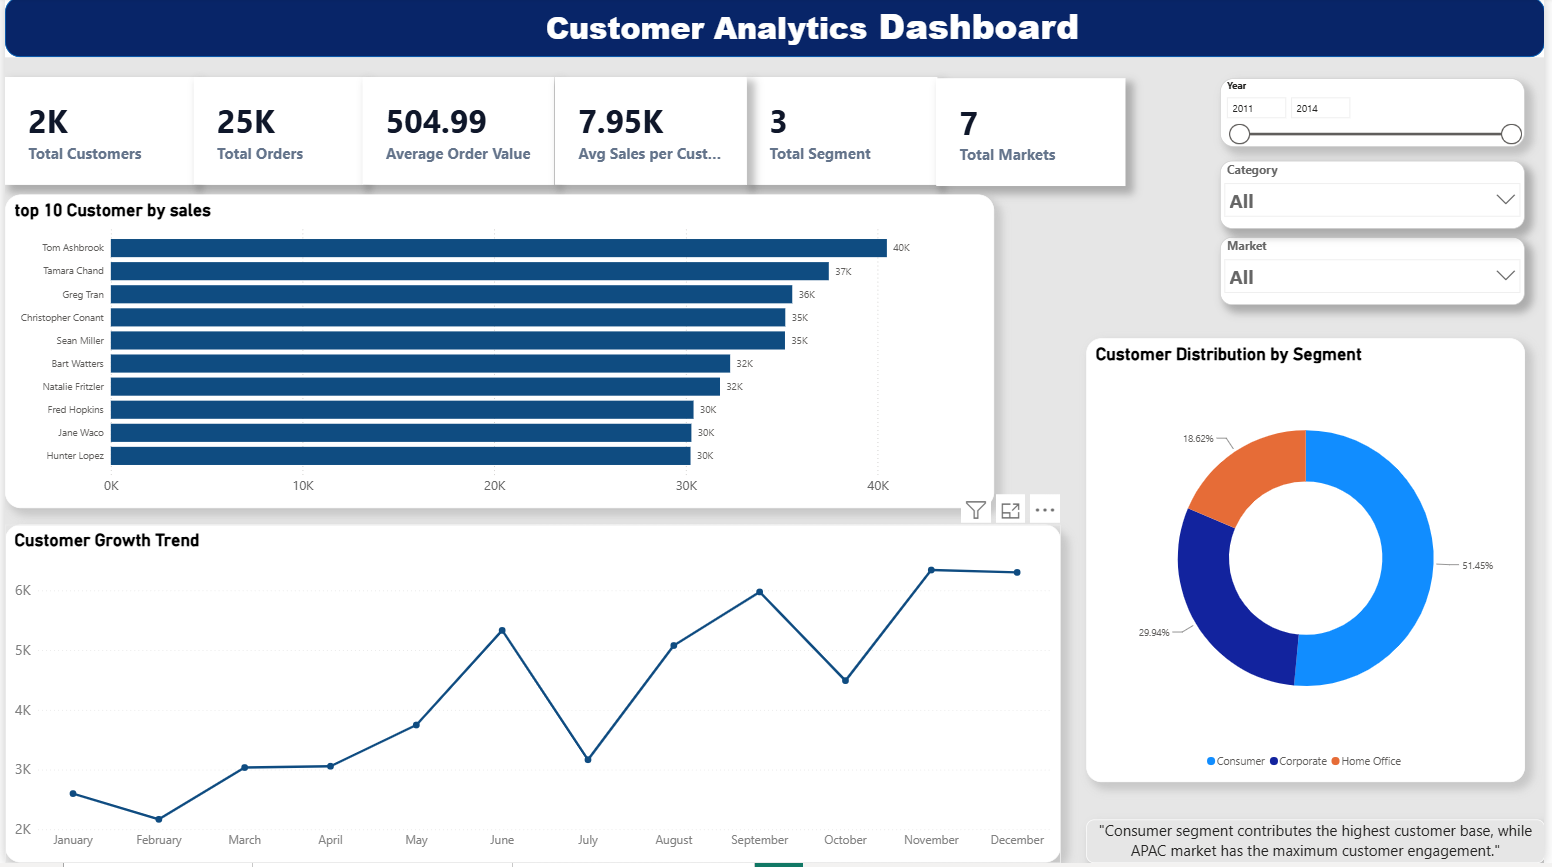

The dashboard page shown, as its layout file describes it:
{"tool":"powerbi","page":{"name":"Customer Analytics Dashboard","canvas":[1920,1080],"ordinal":1},"visuals":[{"type":"cardVisual","title":"Total Sales","fields":{"Data":["Measures (2).Total Customers"]},"box":[0,99.4,236,134.3],"z":0},{"type":"cardVisual","title":"Total Sales","fields":{"Data":["Measures (2).Total Segment"]},"box":[924.4,99.4,238,134.3],"z":1000},{"type":"cardVisual","title":"Total Sales","fields":{"Data":["Measures (2).Total Markets"]},"box":[1161.6,101.2,236,134.3],"z":2000},{"type":"cardVisual","title":"Total Sales","fields":{"Data":["Measures (2).Total Orders"]},"box":[235.5,99.4,211,134.3],"z":3000},{"type":"cardVisual","title":"Total Sales","fields":{"Data":["Measures (2).Average Order Value"]},"box":[446.5,99.4,239,134.3],"z":4000},{"type":"cardVisual","fields":{"Data":["Measures (2).Avg Sales per Customer"]},"box":[685.5,99.4,239,134.3],"z":5000},{"type":"slicer","fields":{"Values":["DateTable.Year"]},"box":[1515.7,101.2,380.2,85.5],"z":6000},{"type":"slicer","fields":{"Values":["Global_Superstore.Market"]},"box":[1515.7,300,380.2,85],"z":7000},{"type":"slicer","fields":{"Values":["Global_Superstore.Category"]},"box":[1515.7,204.1,380.2,85],"z":8000},{"type":"textbox","box":[1348.3,1025.6,572.1,54.1],"z":14000},{"type":"shape","box":[0,0,1920.4,75],"z":15000},{"type":"textbox","box":[198.8,0,1540.1,75],"z":16000},{"type":"clusteredBarChart","title":"top 10 Customer by sales","fields":{"Category":["Global_Superstore.Customer Name"],"Y":["Measures (2).Total Sales"]},"box":[0,245.9,1233.7,391.3],"z":16001},{"type":"donutChart","title":"Customer Distribution by Segment","fields":{"Category":["Global_Superstore.Segment"],"Y":["Count(Global_Superstore.Customer ID)"]},"box":[1349.1,425.5,547.3,553.8],"z":16002},{"type":"lineChart","title":"Customer Growth Trend","fields":{"Y":["CountNonNull(Global_Superstore.Customer ID)"],"Category":["DateTable.Month"]},"box":[0,658.5,1317.1,421.2],"z":16003}]}

Visuals, with their boxes in screenshot pixels (x1, y1, x2, y2), scaled from the page's 1920x1080 canvas onto the 1552x867 screenshot:
"Total Sales" cardVisual: 0:80:191:188
"Total Sales" cardVisual: 747:80:940:188
"Total Sales" cardVisual: 939:81:1130:189
"Total Sales" cardVisual: 190:80:361:188
"Total Sales" cardVisual: 361:80:554:188
cardVisual - Measures (2).Avg Sales per Customer: 554:80:747:188
slicer - DateTable.Year: 1225:81:1533:150
slicer - Global_Superstore.Market: 1225:241:1533:309
slicer - Global_Superstore.Category: 1225:164:1533:232
textbox: 1090:823:1551:866
shape: 0:0:1551:60
textbox: 161:0:1406:60
"top 10 Customer by sales" clusteredBarChart: 0:197:997:512
"Customer Distribution by Segment" donutChart: 1091:342:1533:786
"Customer Growth Trend" lineChart: 0:529:1065:866
